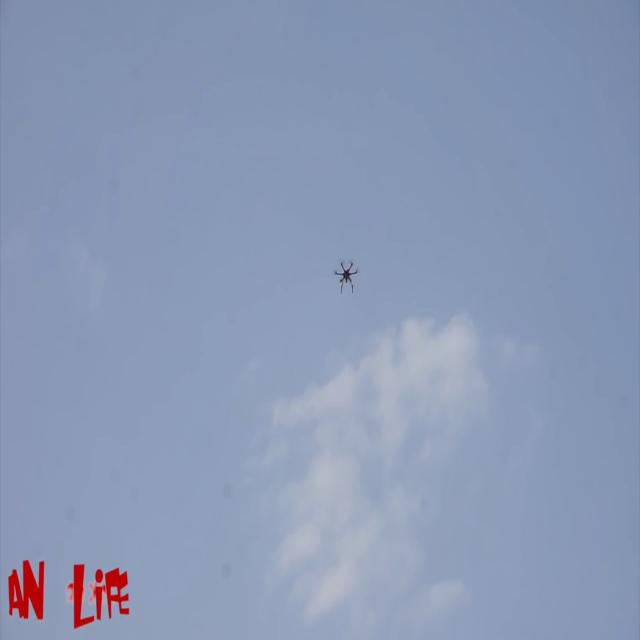drone: (327, 245, 372, 306)
